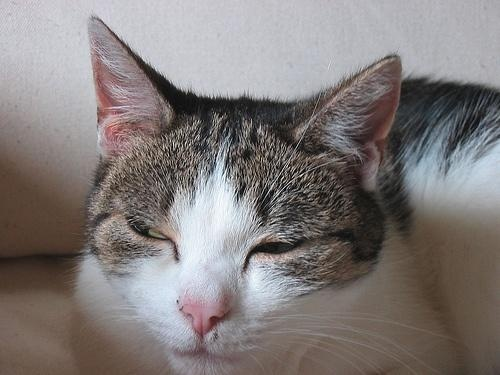cat: (75, 13, 500, 375)
